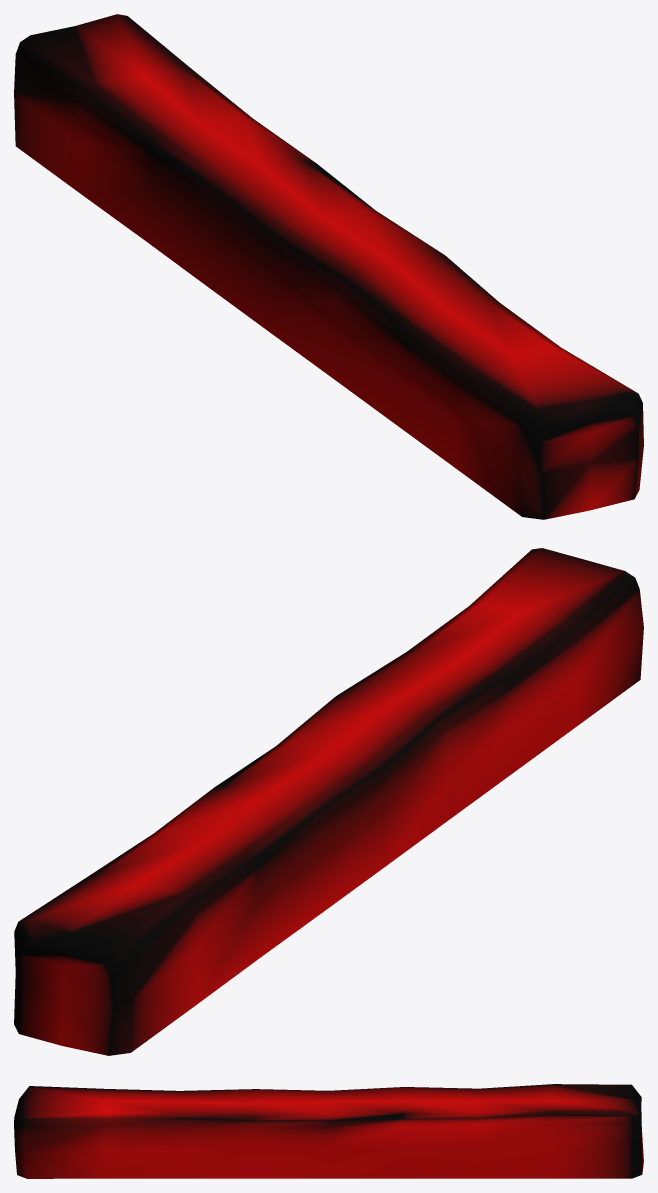
File: alley_edge_2.fbx
3 views of the same model, one above another, from view 1: azimuth 30°, elevation 25°; view 2: azimuth 150°, elevation 25°; view 3: azimuth 270°, elevation 25° (orthographic). The views are drawn at different scales.
Parts seen in each view (by area): view 1: alley_edge_2; view 2: alley_edge_2; view 3: alley_edge_2.
Boxes of the visible parts, x1=… form: alley_edge_2: x1=14, y1=14, x2=643, y2=519; alley_edge_2: x1=14, y1=548, x2=643, y2=1055; alley_edge_2: x1=14, y1=1084, x2=643, y2=1178.
Bounding box in the file's own units: 0.2799 × 0.23 × 2.05.
